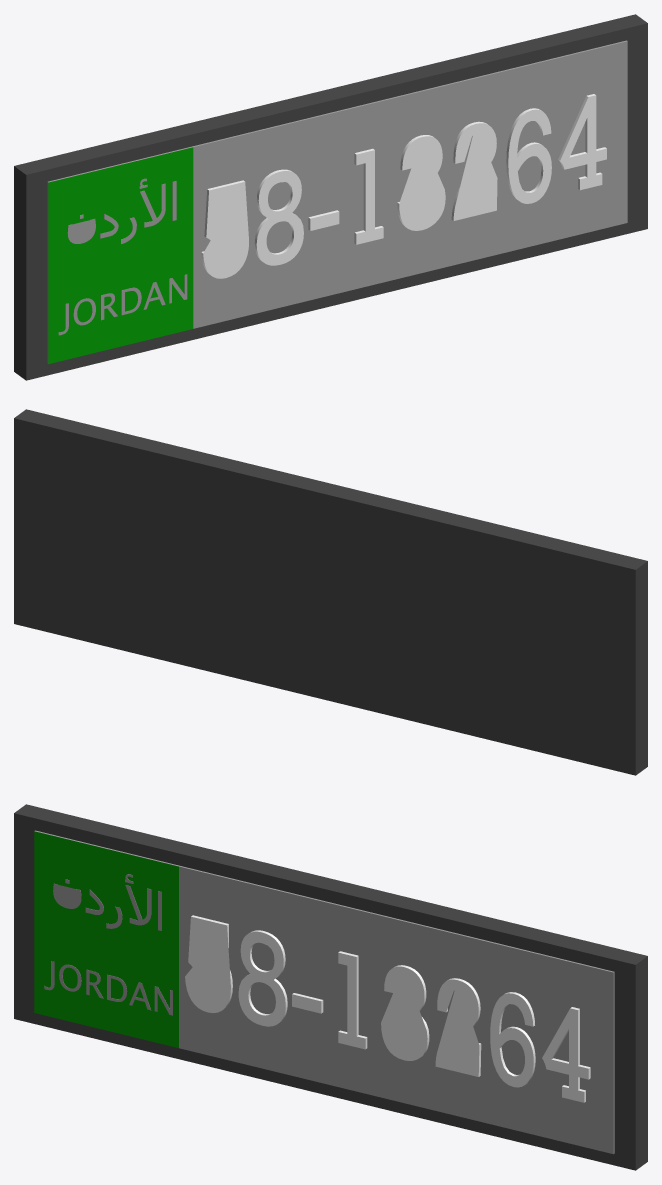
The model's file is Plate3.fbx.
The picture shows the model from 3 angles, top to bottom: view 1: azimuth 30°, elevation 25°; view 2: azimuth 150°, elevation 25°; view 3: azimuth 330°, elevation 25°; orthographic projection.
Parts seen in each view (by area): view 1: pCube1, pCube2, typeMesh3, typeMesh1, typeMesh2; view 2: pCube2; view 3: pCube1, pCube2, typeMesh3, typeMesh1, typeMesh2.
Boxes of the visible parts, x1,y1,x2,y2 form: pCube1: (47, 40, 627, 364); pCube2: (14, 14, 647, 380); typeMesh3: (201, 94, 606, 278); typeMesh1: (67, 178, 176, 243); typeMesh2: (58, 274, 187, 335); pCube2: (14, 409, 647, 775); pCube1: (34, 830, 614, 1154); pCube2: (14, 804, 647, 1170); typeMesh3: (185, 915, 590, 1102); typeMesh1: (53, 874, 161, 930); typeMesh2: (44, 961, 172, 1015).
Bounding box in the file's own units: 1.11 × 0.3516 × 0.047.
